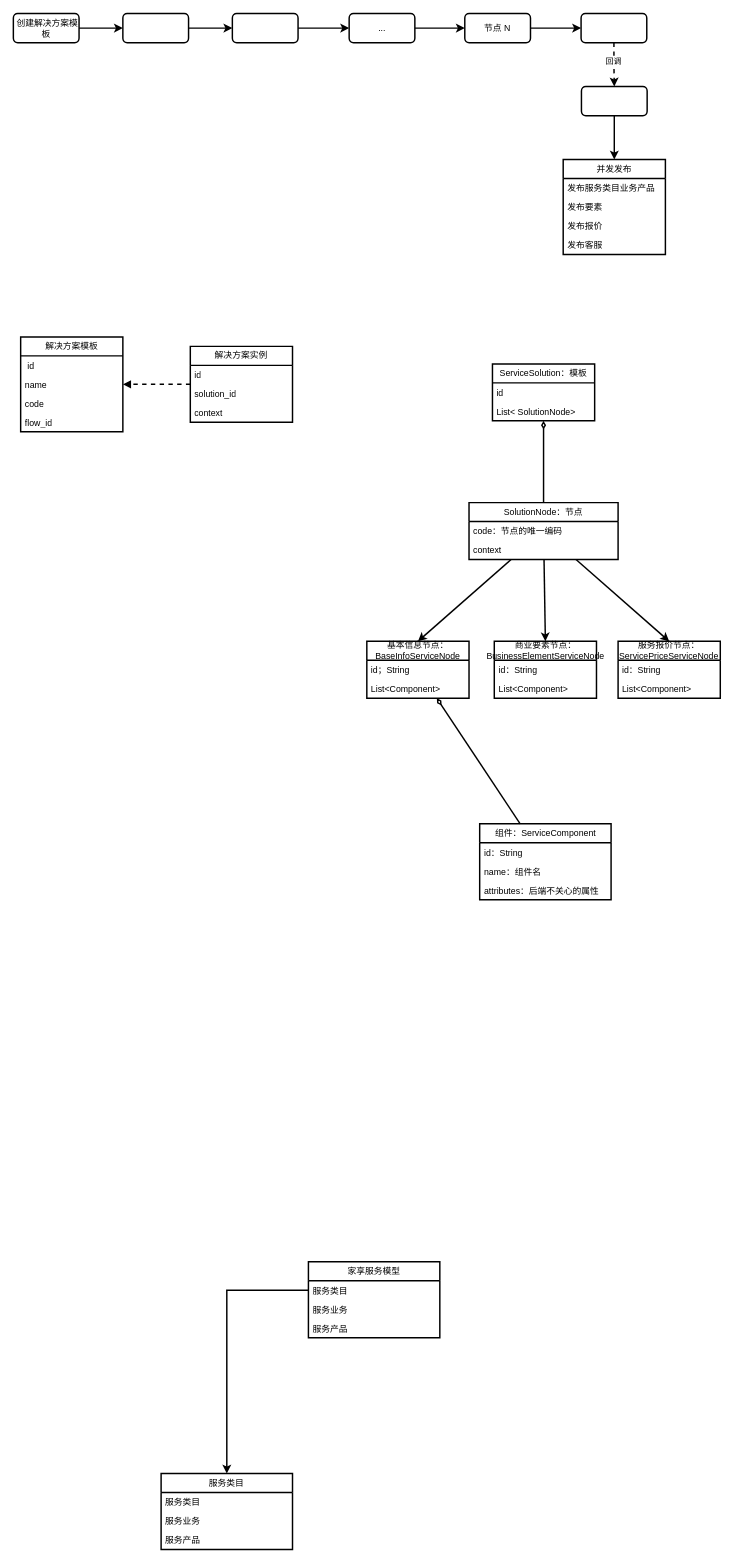
Some shapes in this 734 by 1564 pixel diagram are drawn without their labels. The shapes that lost their labels are listed below. From the top down, each one's centre as x and y in pixels, then its label:
point (155, 27): 创建实例
point (264, 27): 节点 1
point (613, 27): 审批流
point (614, 100): 发布接口
